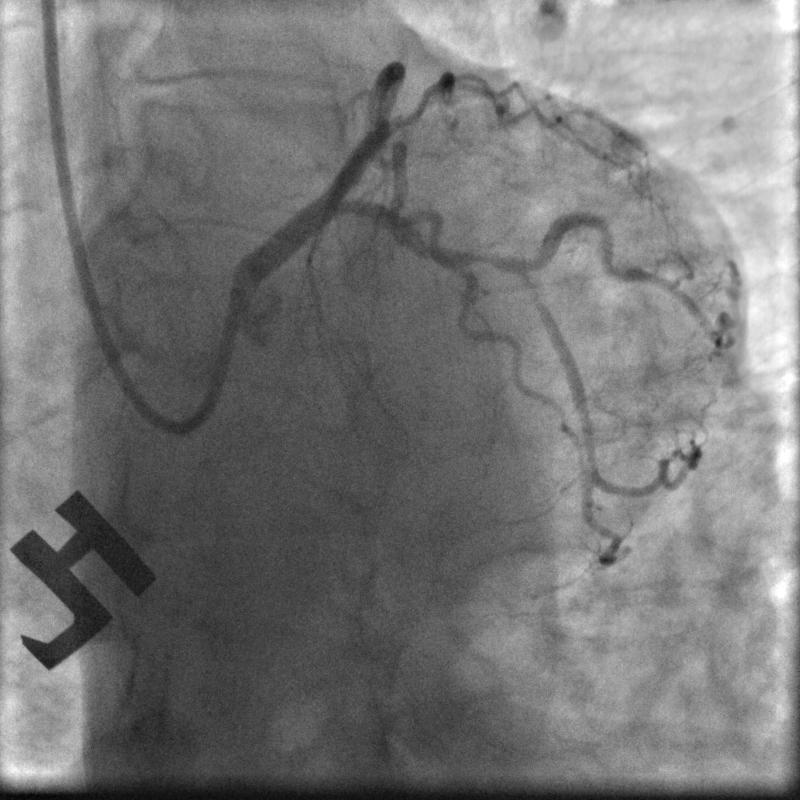Stenosis: (471, 241, 542, 283)
